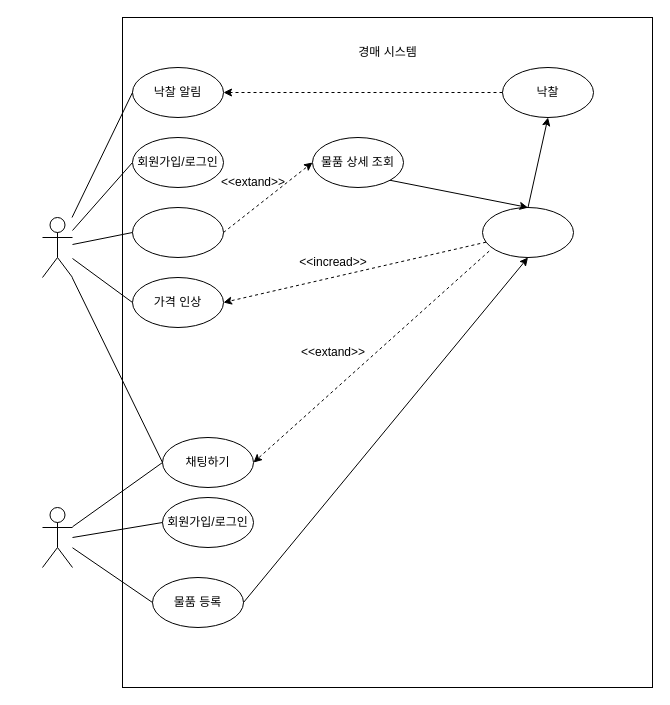
This 670x705 diagram has some shape labels left out. The centre of each missing label's shape, as x and y in pixels:
User/consumer: [57,247]
User/seller: [57,537]
경매: [528,232]
물품 조회: [178,232]
